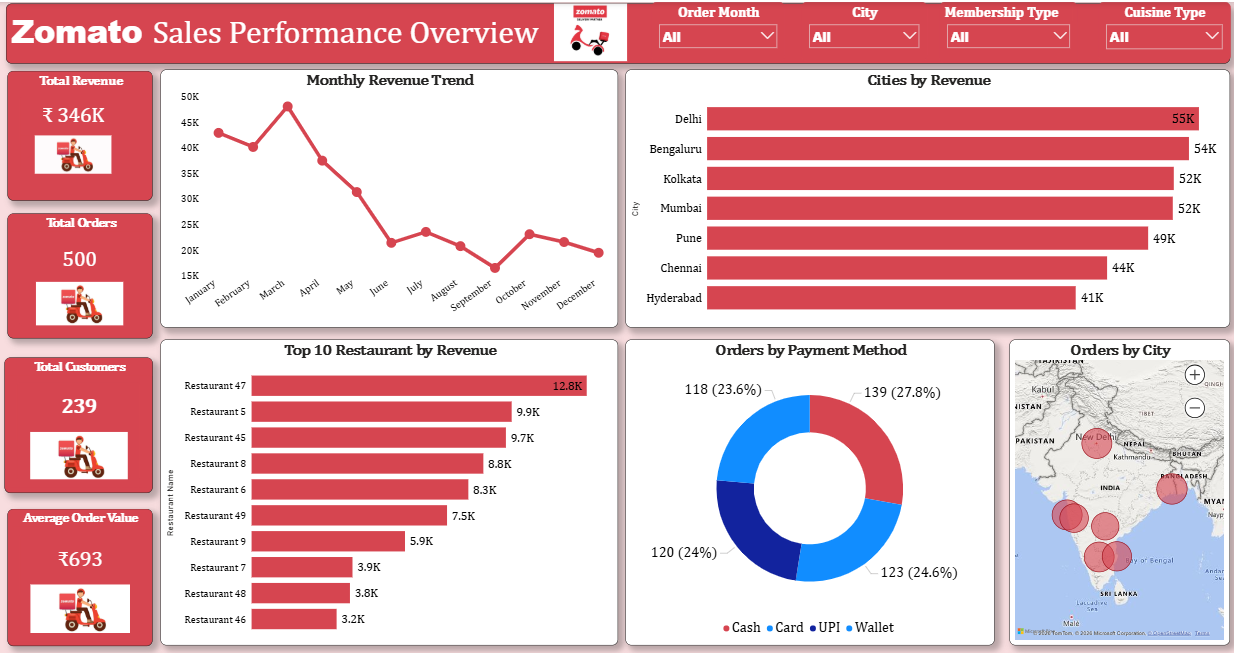

This screenshot's page, from the dashboard's own definition file:
{"tool":"powerbi","page":{"name":"Page 1","canvas":[2100,1100],"ordinal":0},"visuals":[{"type":"textbox","box":[10.1,2.5,2065.1,101.2],"z":0},{"type":"cardVisual","title":"Total Revenue","fields":{"Data":["Measures (2).Total Revenue"]},"box":[13.2,115.8,244.7,218.4],"z":1000},{"type":"cardVisual","title":"Total Orders","fields":{"Data":["Measures (2).Total Orders"]},"box":[13.2,357.9,244.7,210.5],"z":2000},{"type":"cardVisual","title":"Total Customers","fields":{"Data":["Measures (2).Total Customer"]},"box":[7.9,600,250,228.9],"z":3000},{"type":"cardVisual","title":"Average Order Value","fields":{"Data":["Measures (2).Average Order Value"]},"box":[13.2,855.3,244.7,231.6],"z":4000},{"type":"lineChart","title":"Monthly Revenue Trend","fields":{"Category":["zomato_orders.Order Date.Variation.Date Hierarchy.Month"],"Y":["Measures (2).Total Revenue"]},"box":[270.8,113.9,771.9,435.3],"z":5000},{"type":"barChart","title":"Cities by Revenue","fields":{"Category":["zomato_orders.City"],"Y":["Measures (2).Total Revenue"]},"box":[1055.3,113.9,1019.9,435.3],"z":6000},{"type":"barChart","title":"Top 10 Restaurant by Revenue","fields":{"Category":["zomato_restaurants.Restaurant Name"],"Y":["Measures (2).Total Revenue"]},"box":[270.8,569.4,771.9,516.3],"z":7000},{"type":"donutChart","title":" Orders by Payment Method","fields":{"Category":["zomato_orders.Payment Method"],"Y":["Measures (2).Total Orders"]},"box":[1055.3,569.4,622.6,516.3],"z":8000},{"type":"map","title":"Orders by City","fields":{"Category":["zomato_orders.City"],"Size":["Measures (2).Total Orders"]},"box":[1703.2,569.4,372,516.3],"z":9000},{"type":"slicer","title":"Order Month","fields":{"Values":["zomato_orders.Order Date.Variation.Date Hierarchy.Month"]},"box":[1097.4,0,226.3,100],"z":10000},{"type":"slicer","title":"City","fields":{"Values":["zomato_orders.City"]},"box":[1352.6,0,213.2,100],"z":11000},{"type":"slicer","title":"Cuisine Type","fields":{"Values":["zomato_restaurants.Cuisine Type"]},"box":[1852.6,0,223.7,100],"z":12000},{"type":"slicer","title":"Membership Type","fields":{"Values":["zomato_customers.Membership Type"]},"box":[1584.2,0,234.2,102.6],"z":13000},{"type":"image","box":[918.4,2.6,155.3,97.4],"z":14001}]}

Visuals, with their boxes in screenshot pixels (x1, y1, x2, y2), scaled from the page's 2100x1100 canvas onto the 1234x653 screenshot:
textbox: (x1=6, y1=1, x2=1219, y2=62)
"Total Revenue" cardVisual: (x1=8, y1=69, x2=152, y2=198)
"Total Orders" cardVisual: (x1=8, y1=212, x2=152, y2=337)
"Total Customers" cardVisual: (x1=5, y1=356, x2=152, y2=492)
"Average Order Value" cardVisual: (x1=8, y1=508, x2=152, y2=645)
"Monthly Revenue Trend" lineChart: (x1=159, y1=68, x2=613, y2=326)
"Cities by Revenue" barChart: (x1=620, y1=68, x2=1219, y2=326)
"Top 10 Restaurant by Revenue" barChart: (x1=159, y1=338, x2=613, y2=645)
" Orders by Payment Method" donutChart: (x1=620, y1=338, x2=986, y2=645)
"Orders by City" map: (x1=1001, y1=338, x2=1219, y2=645)
"Order Month" slicer: (x1=645, y1=0, x2=778, y2=59)
"City" slicer: (x1=795, y1=0, x2=920, y2=59)
"Cuisine Type" slicer: (x1=1089, y1=0, x2=1220, y2=59)
"Membership Type" slicer: (x1=931, y1=0, x2=1069, y2=61)
image: (x1=540, y1=2, x2=631, y2=59)
